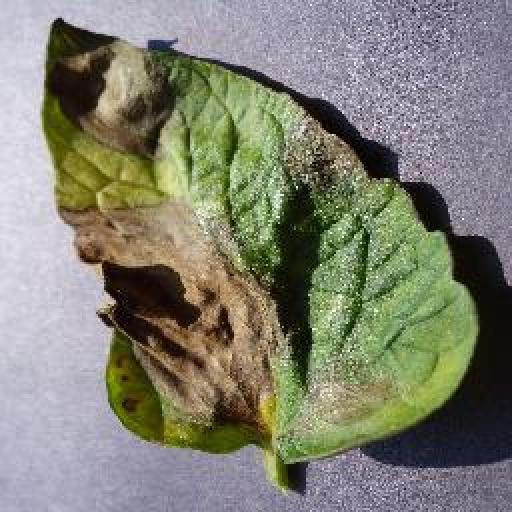Late Blight: (41, 12, 480, 464)
